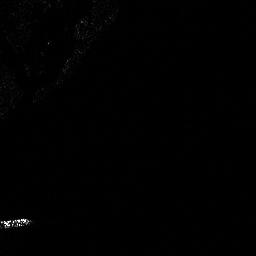ship: (1, 214, 35, 233)
